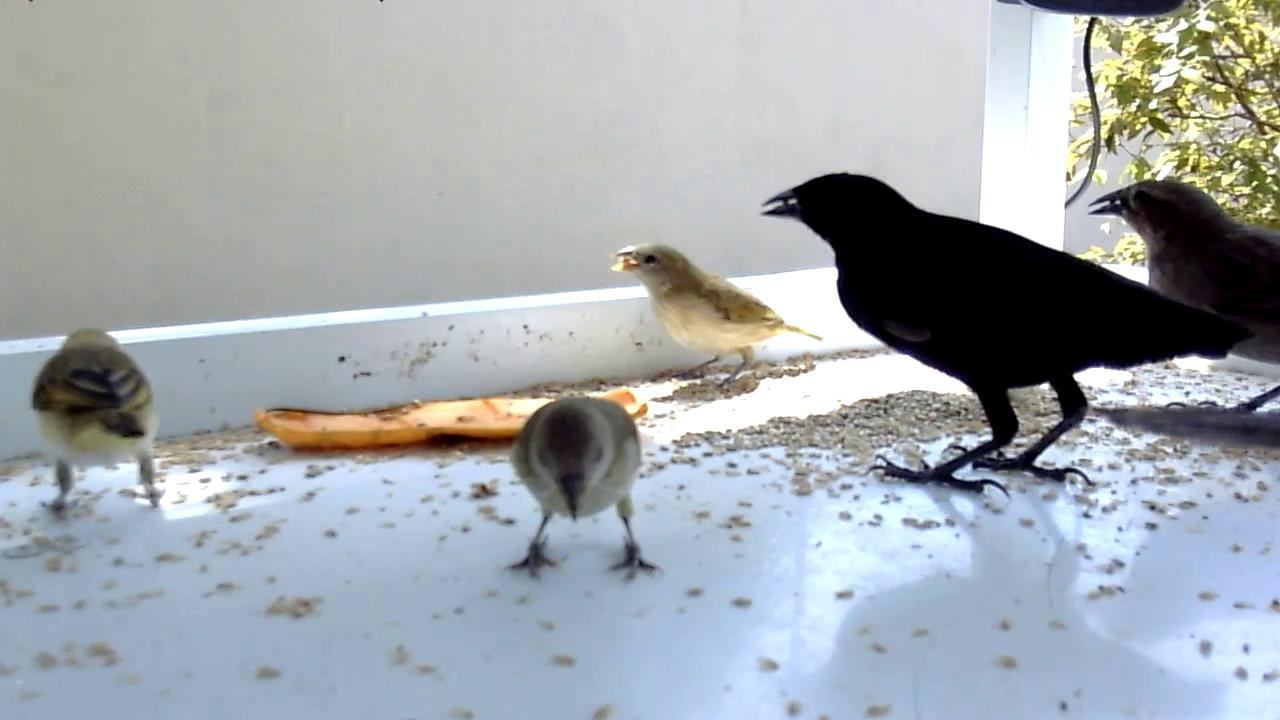canario_do_amazonas: (607, 238, 827, 393), (498, 396, 667, 587), (27, 327, 170, 525)
chupim: (754, 174, 1261, 505), (1083, 177, 1280, 435)
